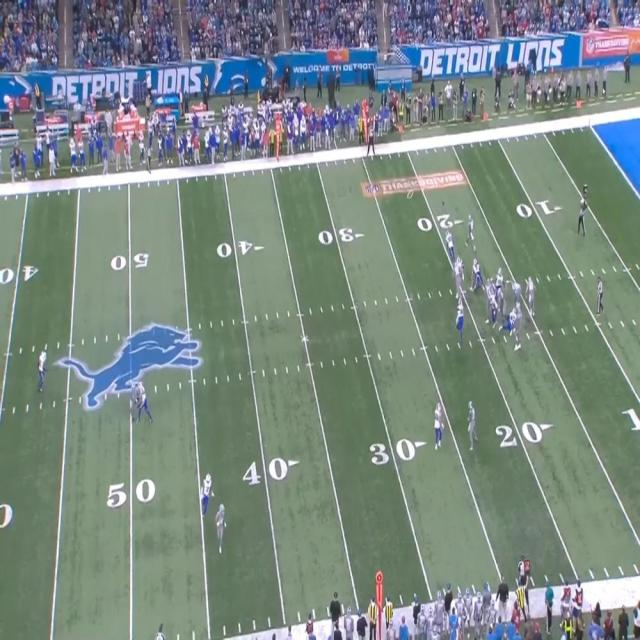db: (202, 473, 216, 522), (435, 402, 448, 448), (38, 350, 48, 392), (446, 228, 454, 265), (138, 380, 144, 422)
skill: (214, 500, 226, 555), (468, 401, 479, 450), (128, 381, 138, 422)
